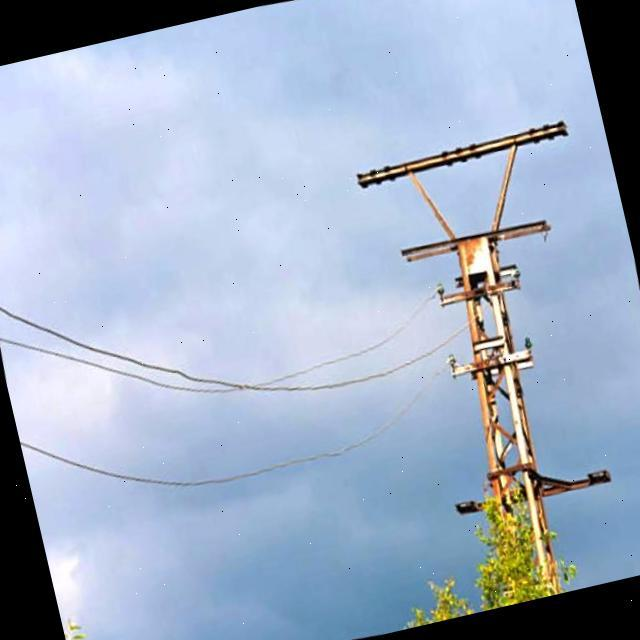critical vegetation: (412, 248, 581, 609), (452, 403, 573, 608)
